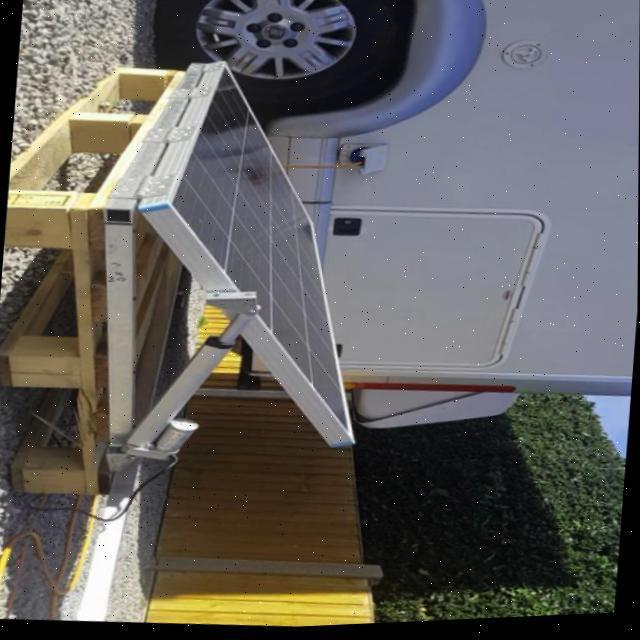Normal Solar Panel: (146, 55, 370, 443)
